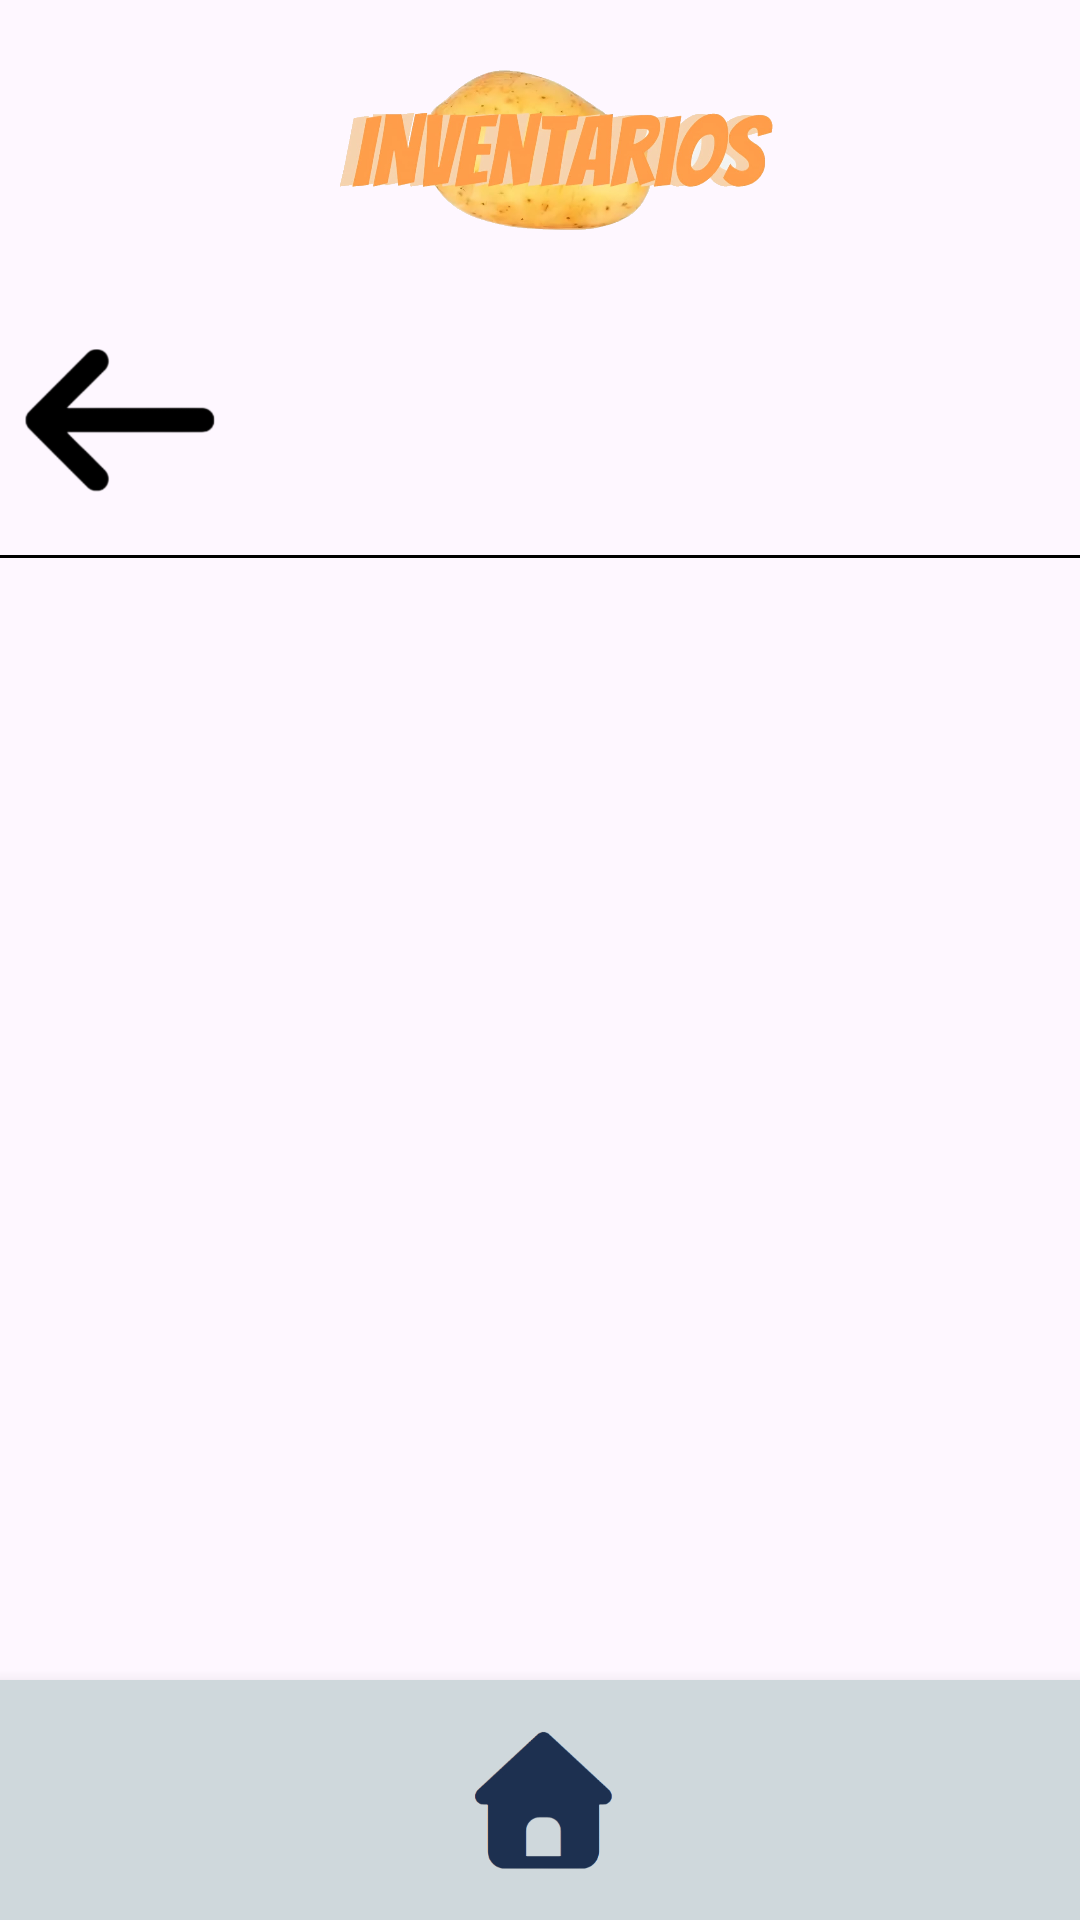

Where icons sit on this 1080*1920 app screen, as box(x1, y1, x2, y2):
flecha: box(25, 349, 215, 492)
Inicio: box(475, 1732, 612, 1869)
